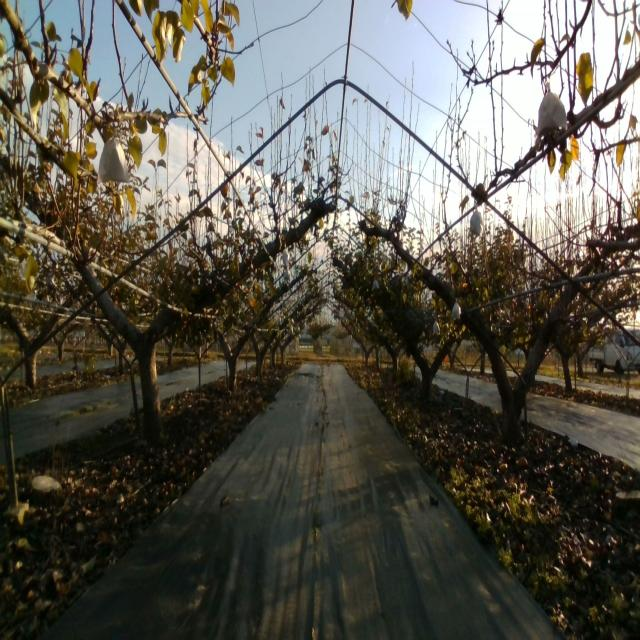pearbags: (96, 134, 130, 183), (536, 81, 568, 133), (469, 204, 484, 236), (450, 298, 461, 318)
